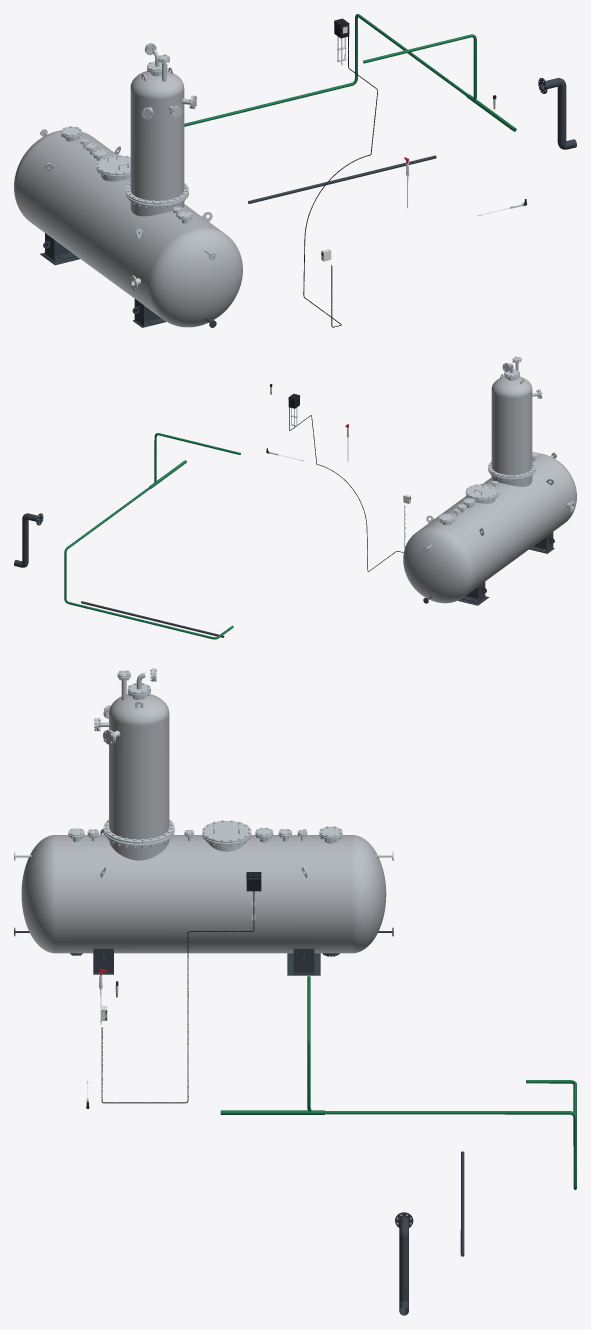
File: s4000-1-BxsWUfl2.glb
3 renders of one model, top to bottom at view 1: azimuth 30°, elevation 25°; view 2: azimuth 150°, elevation 25°; view 3: azimuth 270°, elevation 25°, orthographic. The views are drawn at different scales.
Parts seen in each view (by area): view 1: deaerator CAD solid 56, deaerator CAD solid 257, to_economizer / green, bdv_water_drain / dark, gpz_drive / black, bottom_discharge / dark, to_direct / green, deaerator CAD solid 408; view 2: deaerator CAD solid 56, deaerator CAD solid 257, to_economizer / green, bdv_water_drain / dark, gpz_drive / black, bottom_discharge / dark, to_direct / green, deaerator CAD solid 408; view 3: deaerator CAD solid 56, deaerator CAD solid 257, to_economizer / green, bdv_water_drain / dark, gpz_drive / black, deaerator CAD solid 408.
Boxes of the visible parts, box(x1,y1,x2,y2) form: deaerator CAD solid 56: box(14, 130, 242, 327); deaerator CAD solid 257: box(130, 71, 184, 200); to_economizer / green: box(184, 14, 467, 126); bdv_water_drain / dark: box(538, 78, 576, 149); gpz_drive / black: box(303, 18, 377, 327); bottom_discharge / dark: box(248, 155, 436, 203); to_direct / green: box(363, 34, 476, 99); deaerator CAD solid 408: box(96, 155, 130, 175); deaerator CAD solid 56: box(403, 453, 576, 603); deaerator CAD solid 257: box(491, 376, 532, 475); to_economizer / green: box(64, 486, 233, 639); bdv_water_drain / dark: box(14, 513, 43, 567); gpz_drive / black: box(288, 393, 405, 571); bottom_discharge / dark: box(81, 601, 224, 637); to_direct / green: box(150, 433, 240, 486); deaerator CAD solid 408: box(465, 484, 498, 498); deaerator CAD solid 56: box(21, 835, 386, 953); deaerator CAD solid 257: box(109, 694, 169, 839); to_economizer / green: box(325, 1080, 576, 1189); bdv_water_drain / dark: box(395, 1212, 413, 1315); gpz_drive / black: box(101, 872, 261, 1103); deaerator CAD solid 408: box(202, 821, 251, 842).
Size of the model in its own units: 9.11 by 4.72 by 6.75.
